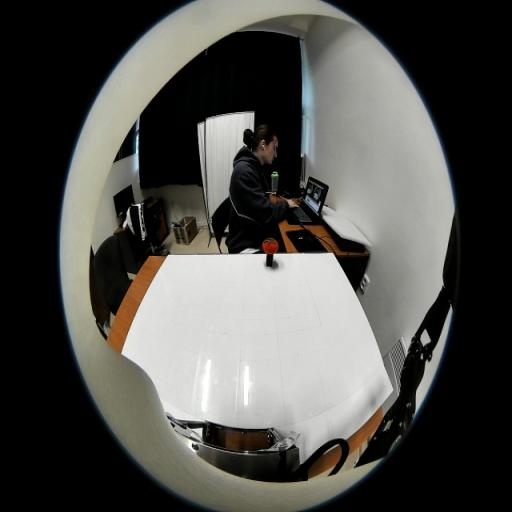Tomato: (262, 238, 279, 254)
